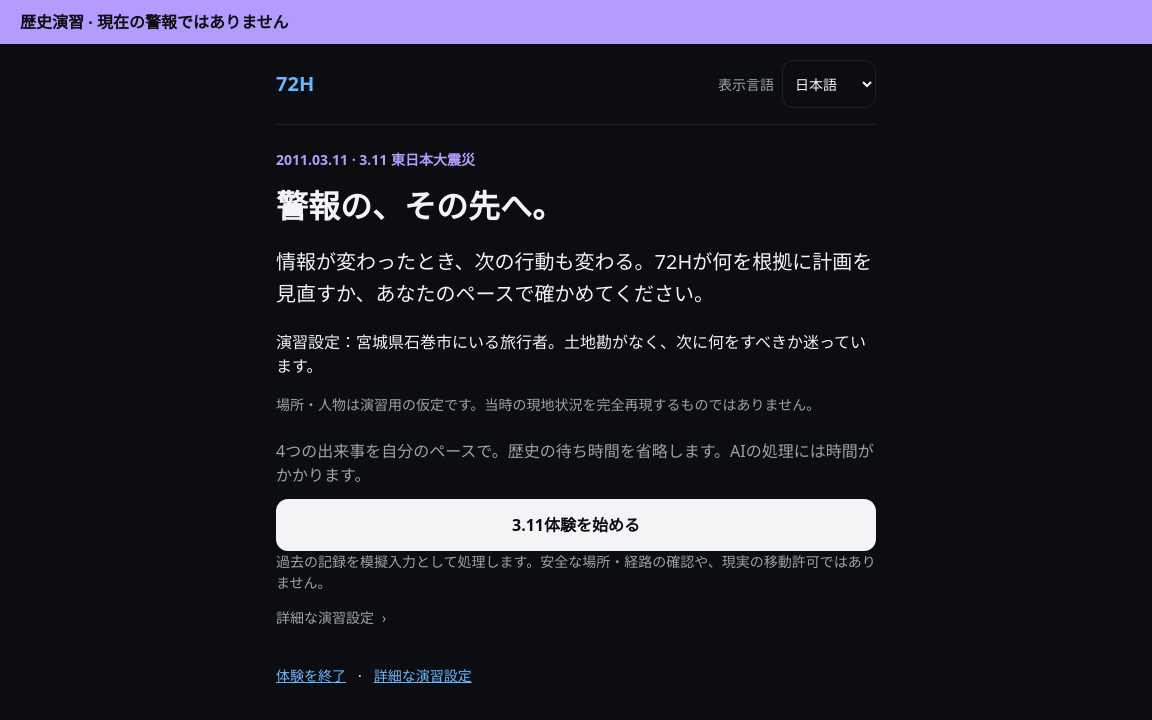
Test case: 311 judge experience › processes each real recorded envelope only on a click and reports actual fallback results and retained plan history
Click the button with test id "judge-start" at (576,525), box [276, 499, 876, 551]
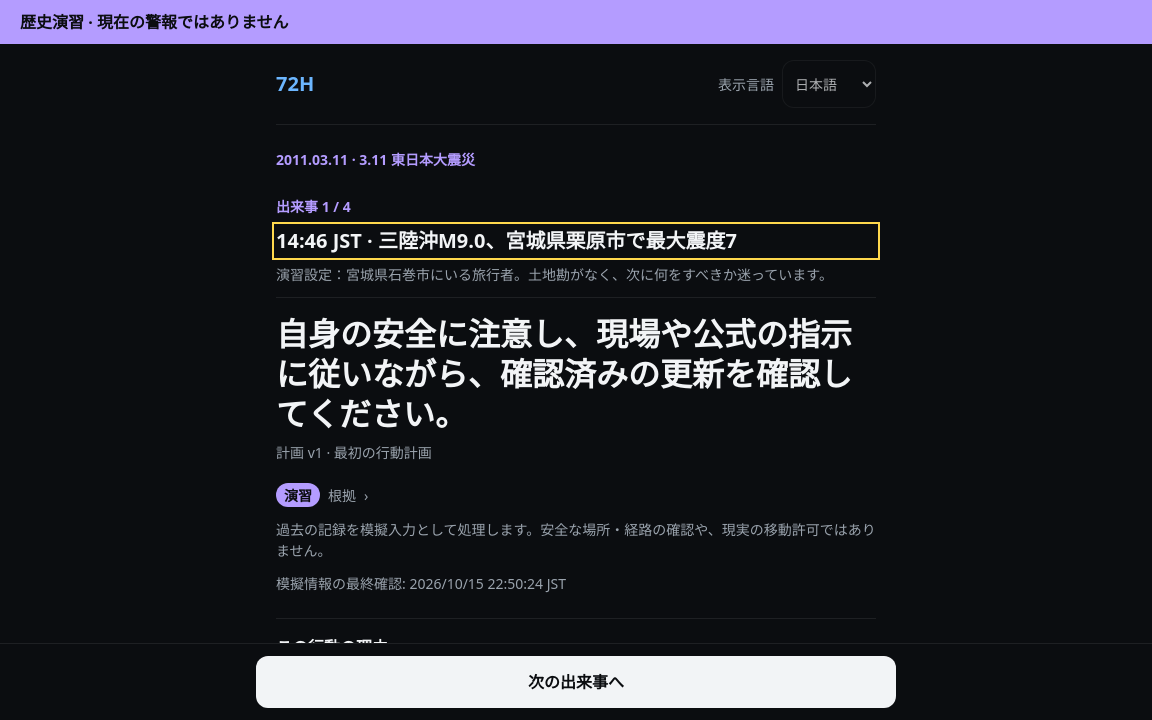
Check: the element with test id "judge-current-event" shows "14:46", box [276, 227, 328, 254]
Check: the heading "自身の安全に注意し、現場や公式の指示に従いながら、確認済みの更新を確認してください。" is shown, box [276, 314, 876, 434]
Click the button with test id "judge-next" at (576,682), box [256, 656, 896, 708]
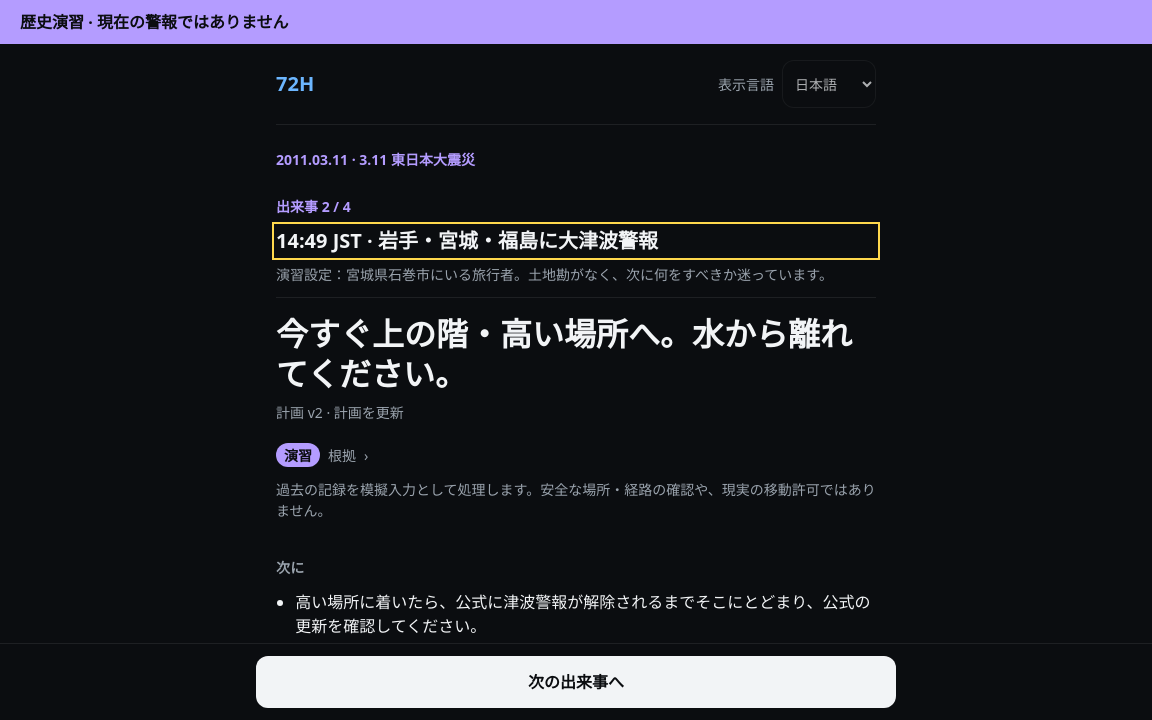
Click the button with test id "judge-next" at (576,682), box [256, 656, 896, 708]
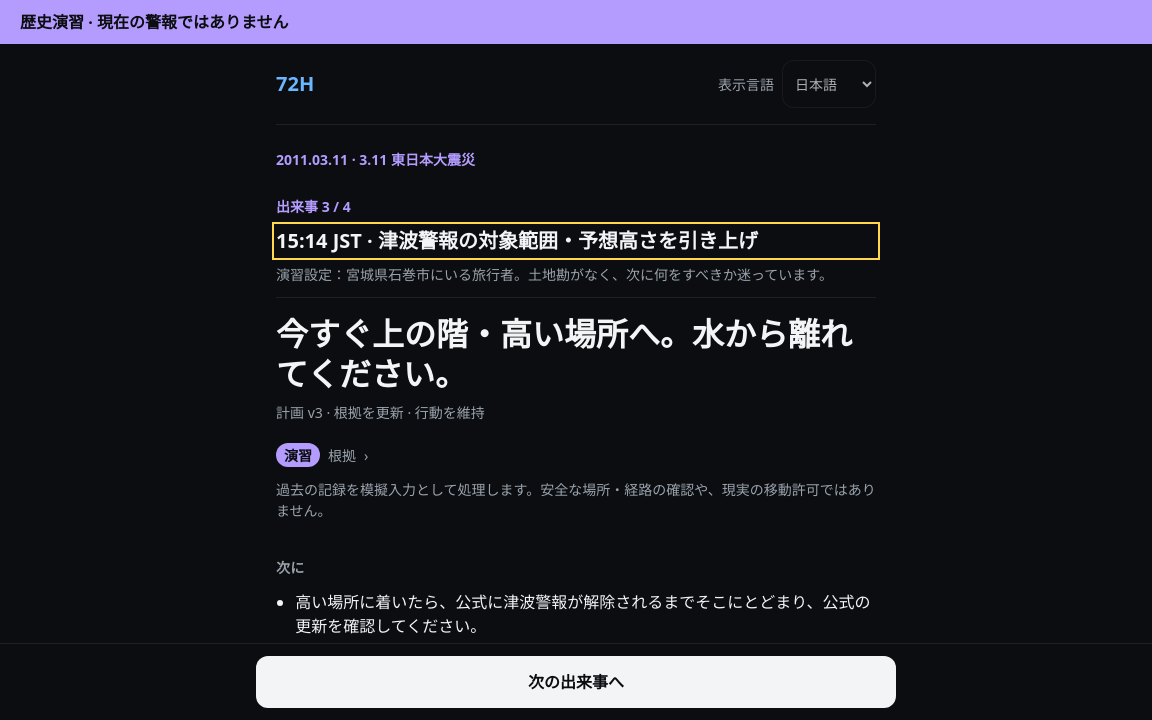
Click the button with test id "judge-next" at (576,682), box [256, 656, 896, 708]
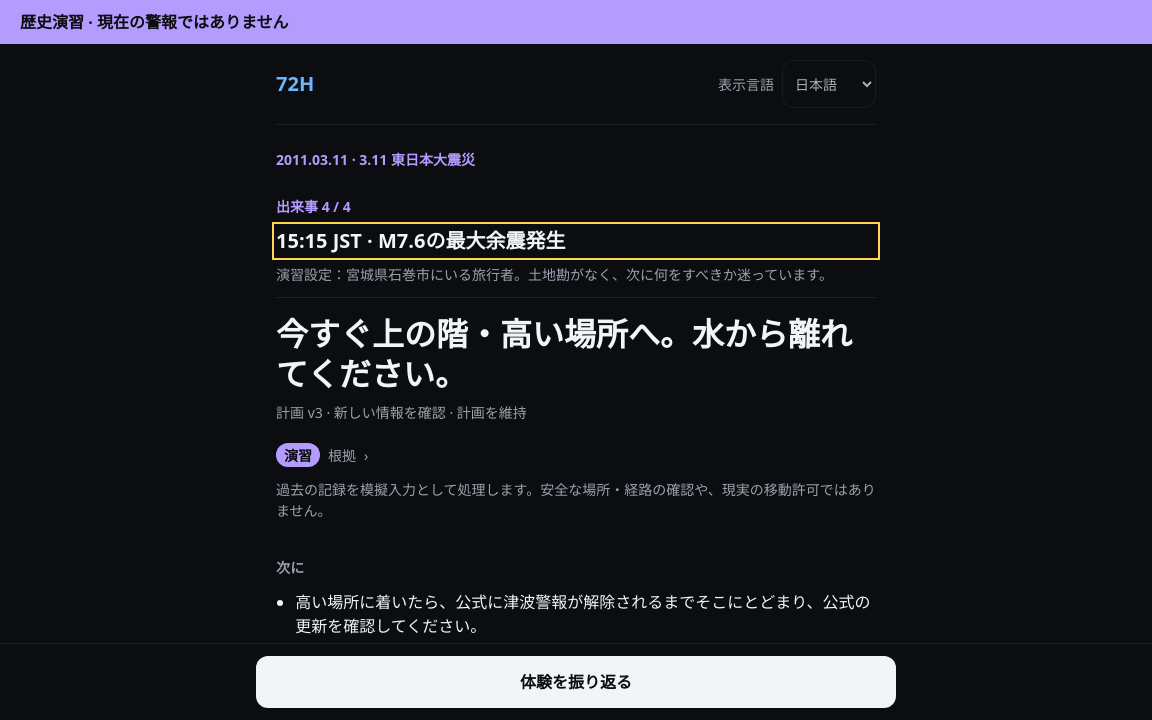
Click the button with test id "judge-next" at (576,682), box [256, 656, 896, 708]
(page scrolled)
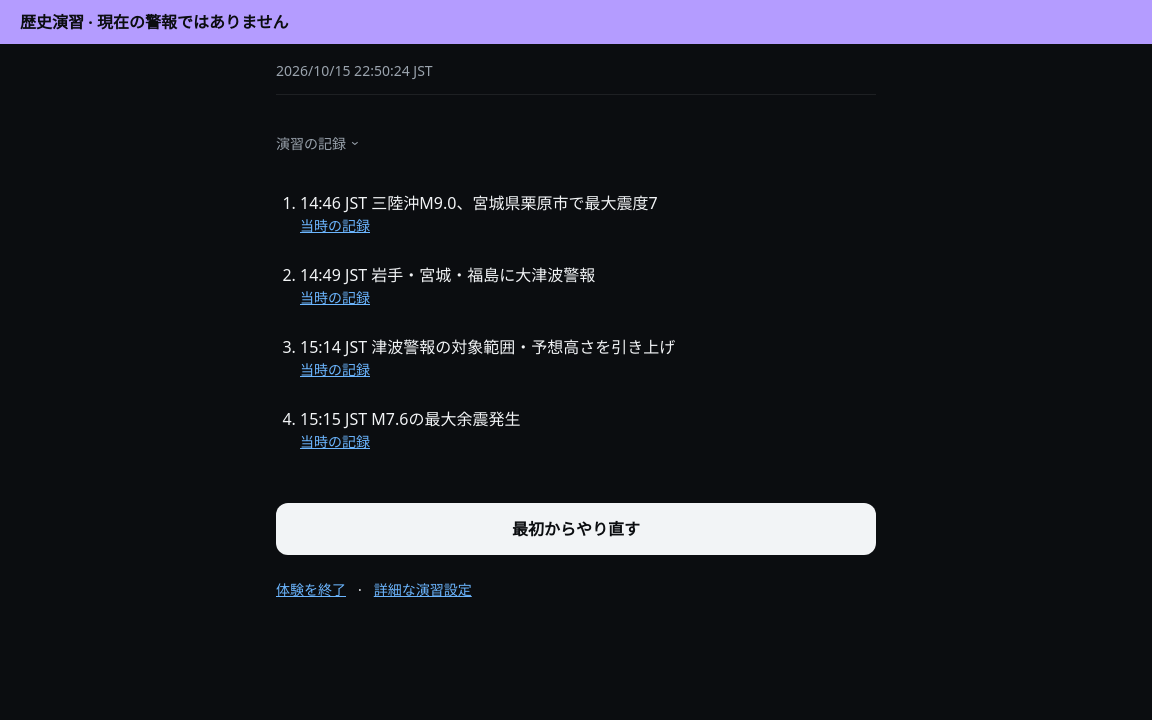
Check: the number of elements with class "judge-history-plan" is 3
Click the button with test id "judge-restart" at (576,529), box [276, 503, 876, 555]
(page scrolled)
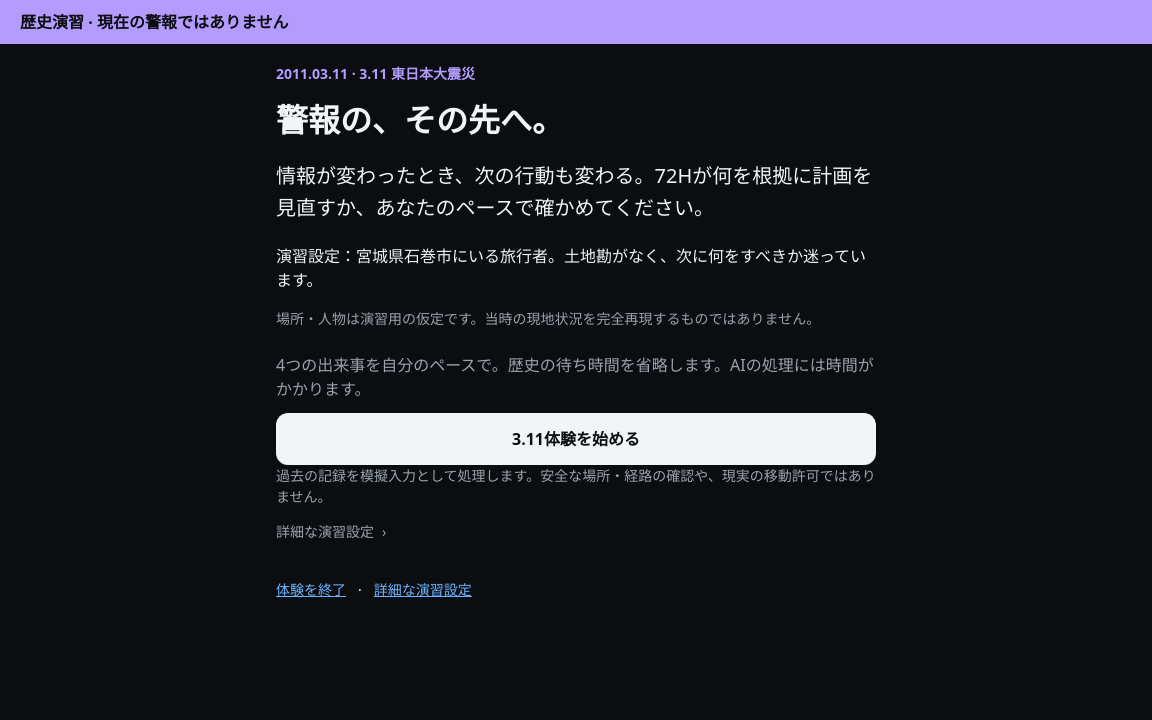
Check: the element with test id "judge-intro" is shown, box [276, 100, 876, 555]
